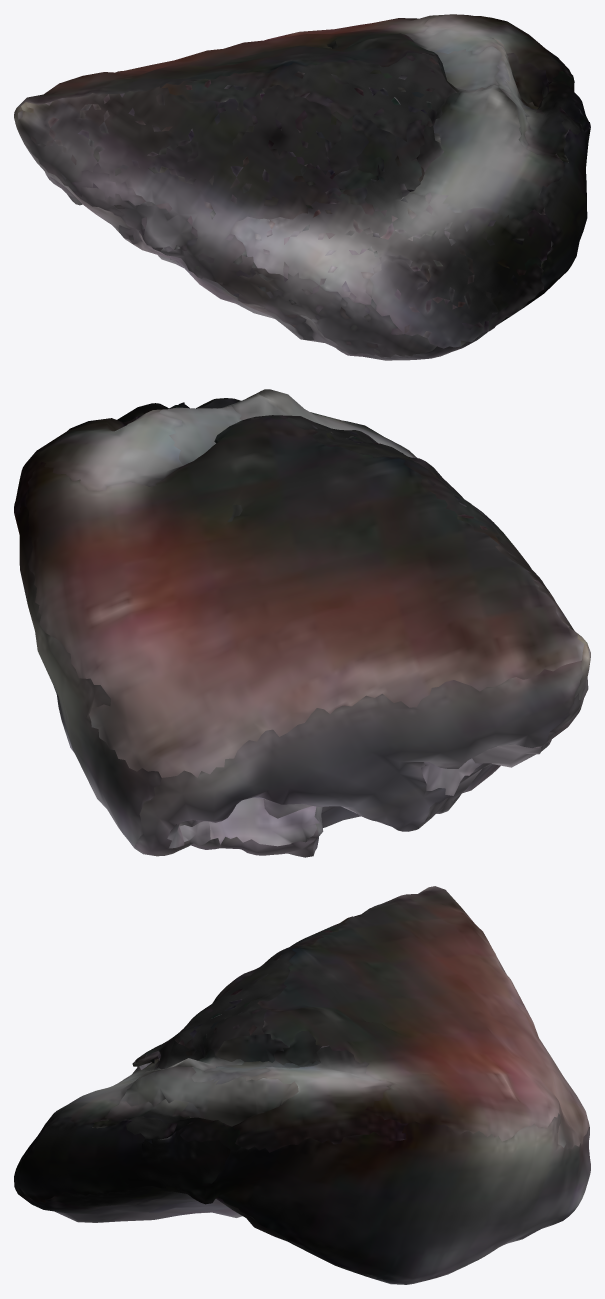
File: 1_mouse,_computer_equipment.glb
3 renders of one model, top to bottom at view 1: azimuth 30°, elevation 25°; view 2: azimuth 150°, elevation 25°; view 3: azimuth 270°, elevation 25°, orthographic. The views are drawn at different scales.
Parts seen in each view (by area): view 1: 1_mouse,_computer_equipment; view 2: 1_mouse,_computer_equipment; view 3: 1_mouse,_computer_equipment.
Part boxes in pixels (left/top/right/bottom): 1_mouse,_computer_equipment: left=14, top=14, right=590, bottom=360; 1_mouse,_computer_equipment: left=14, top=389, right=590, bottom=857; 1_mouse,_computer_equipment: left=14, top=886, right=590, bottom=1284.
Bounding box in the file's own units: 0.1218 × 0.0604 × 0.1206.
1 material, 1 textured.
